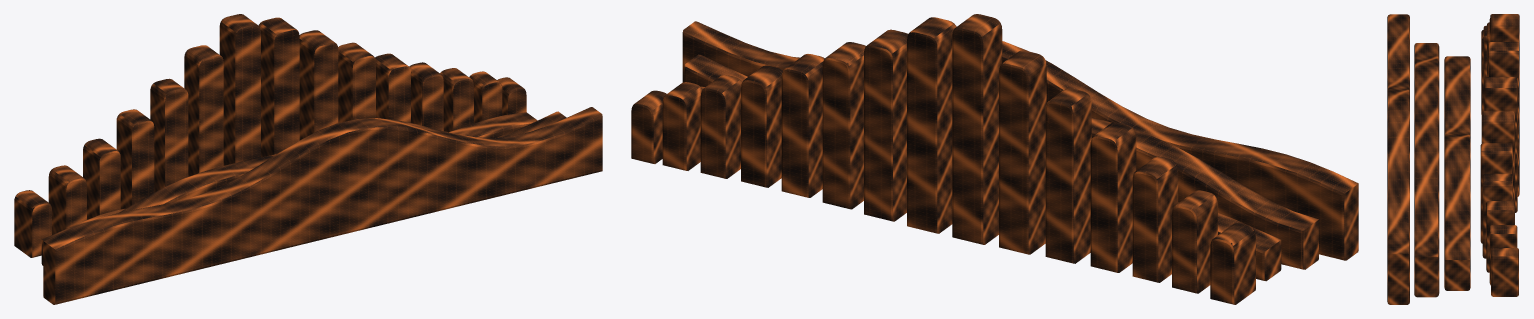
The model's file is Rift_Rail_Bridge.glb.
3 renders of one model, left to right at view 1: azimuth 30°, elevation 25°; view 2: azimuth 150°, elevation 25°; view 3: azimuth 270°, elevation 25°, orthographic. The views are drawn at different scales.
Visible parts, largest first — view 1: Rift_Rail_Bridge; view 2: Rift_Rail_Bridge; view 3: Rift_Rail_Bridge.
Part boxes in pixels (left/top/right/bottom): Rift_Rail_Bridge: left=14, top=14, right=602, bottom=304; Rift_Rail_Bridge: left=631, top=14, right=1358, bottom=304; Rift_Rail_Bridge: left=1387, top=14, right=1519, bottom=304.
Bounding box in the file's own units: 2 × 0.6127 × 0.4663.
1 material, 1 textured.
